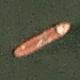ship: (0, 14, 32, 65)
